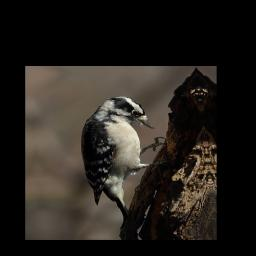Woodpecker: (74, 95, 176, 224)
